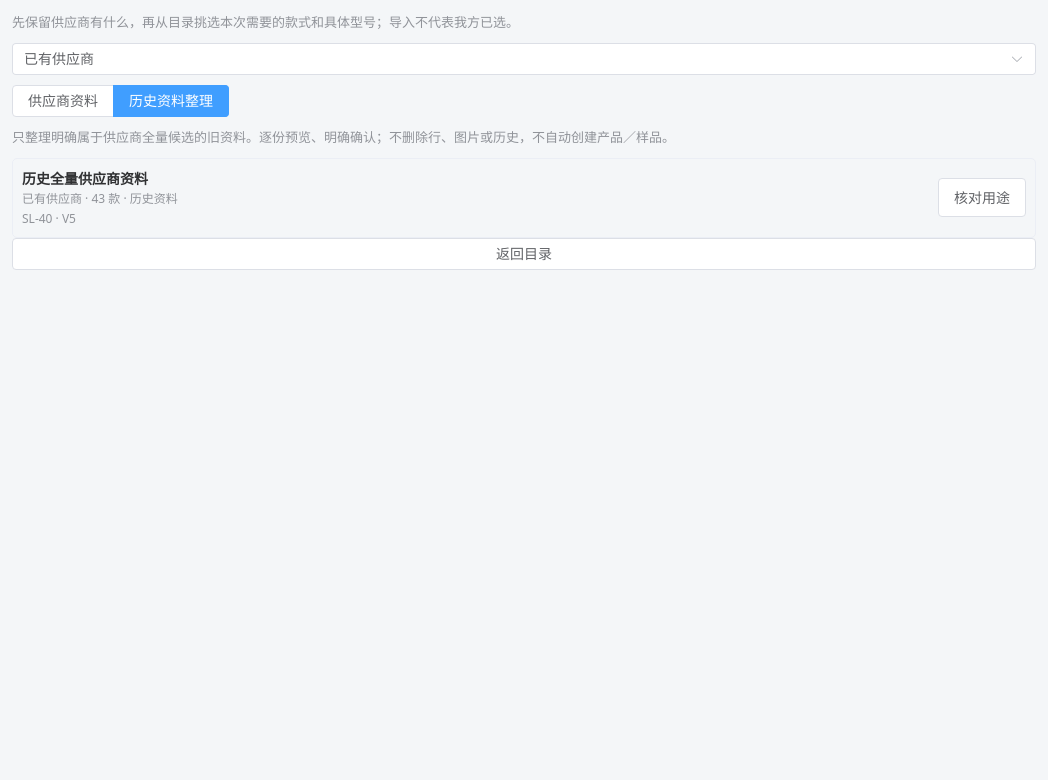
supplier source entry reuses the existing import workflow › cannot confirm a source with selected, frozen or product-linked history and never silently drops blocking messages
The width and height of the screenshot is (1048, 780).
Click the button "核对用途". click: (982, 198)
box: [938,178,1026,217]
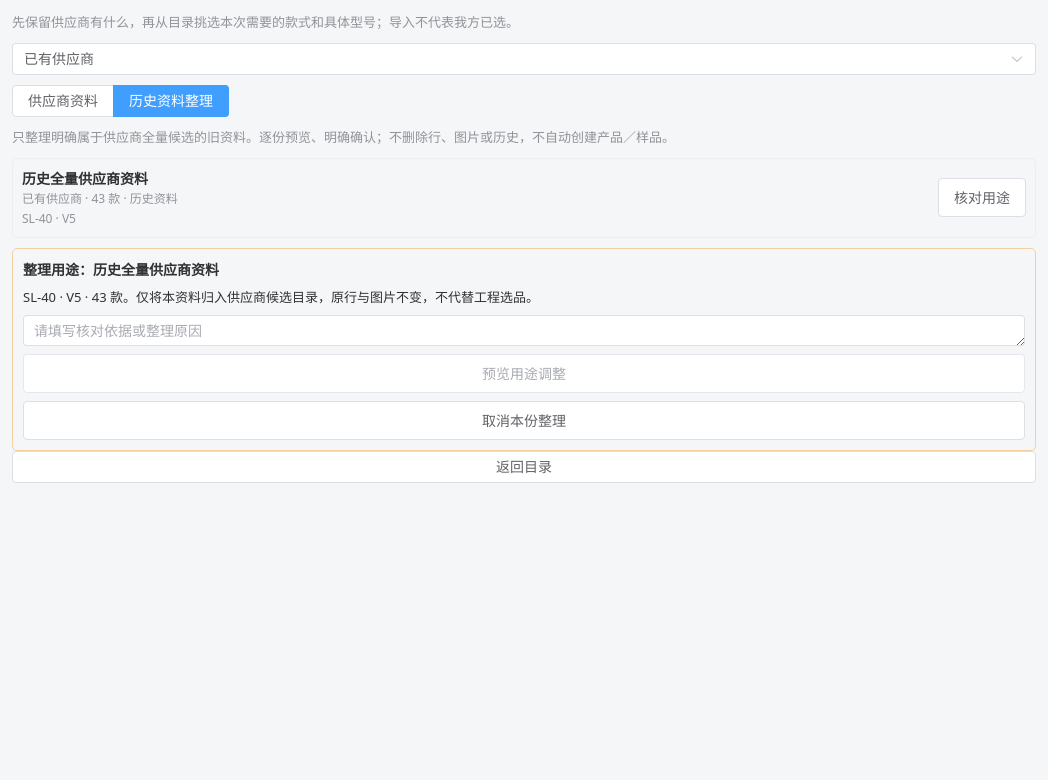
Type "核对原件为完整候选，未作我方选择" into the text box named "资料用途整理原因". click: (524, 331)
box: [23,315,1025,346]
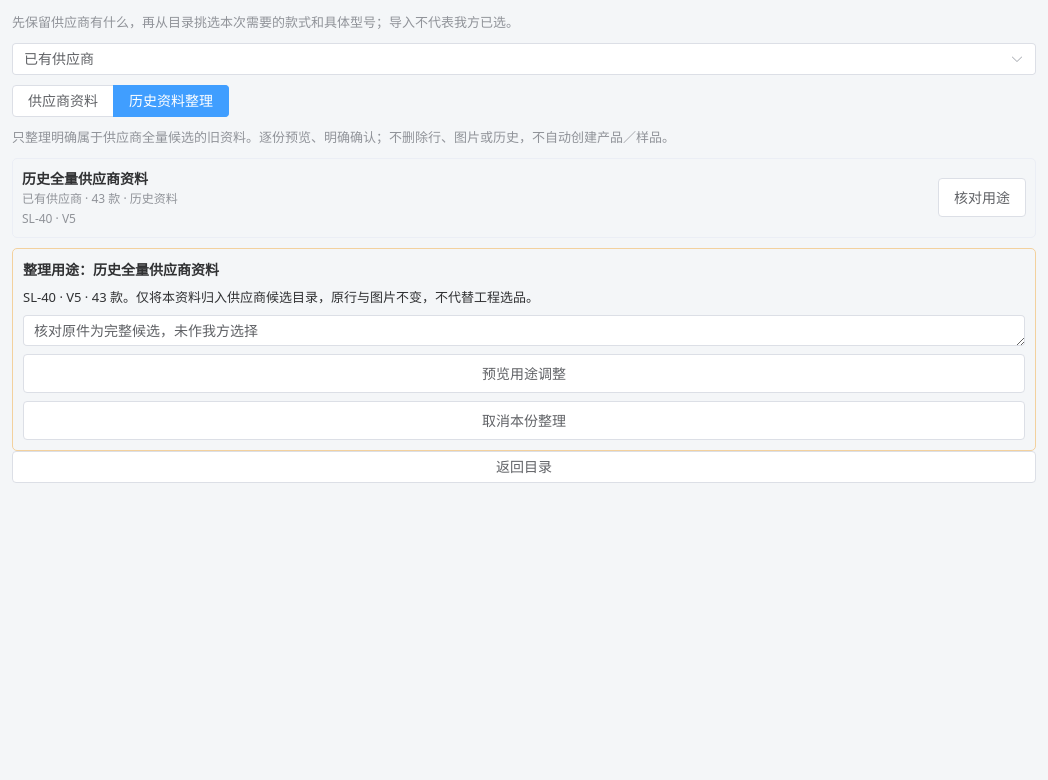
Click the button "预览用途调整". click: (524, 374)
box: [23,354,1025,393]
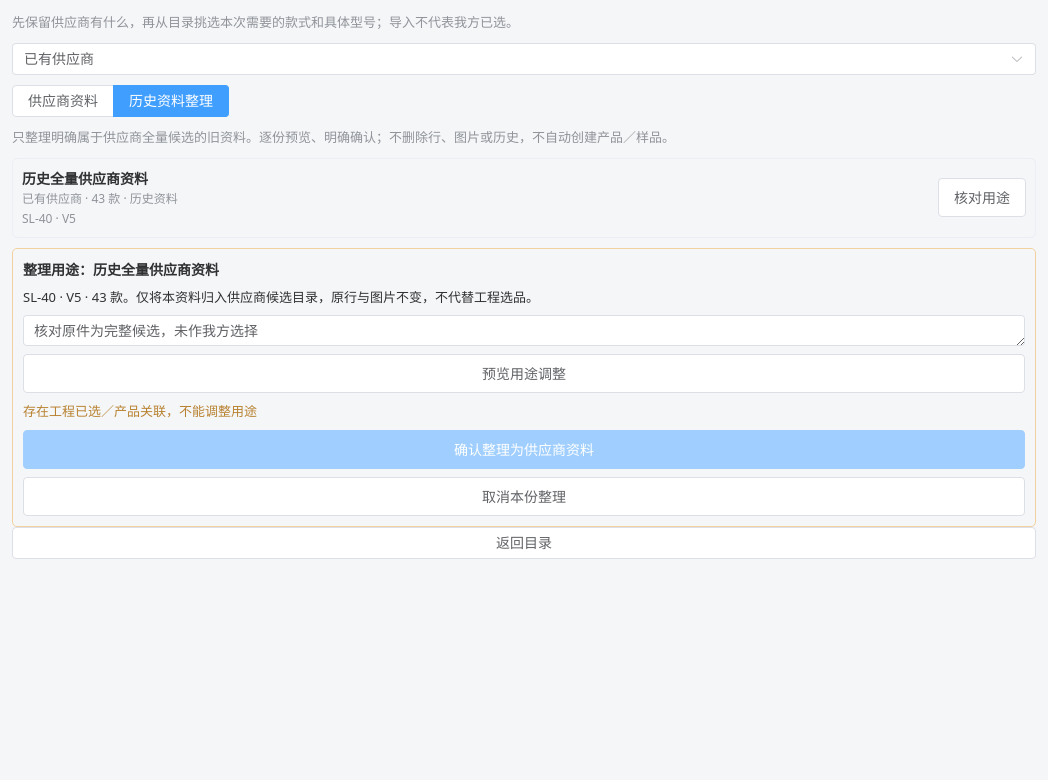
Expected: the text "存在工程已选／产品关联" is shown, [23,402,257,420]
Expected: the button "确认整理为供应商资料" is disabled, [23,430,1025,469]
